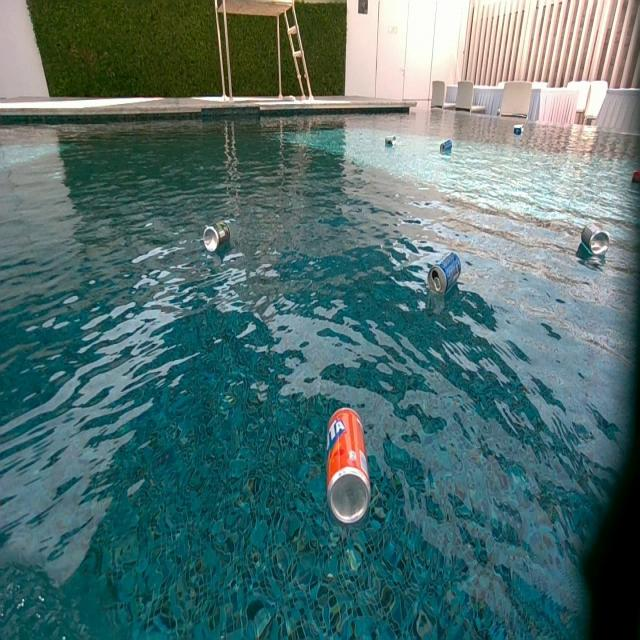Cans: (327, 409, 371, 527), (426, 252, 462, 299), (580, 224, 611, 256), (203, 224, 230, 252), (442, 139, 454, 153), (384, 135, 396, 148), (514, 126, 524, 136), (633, 170, 640, 184)
